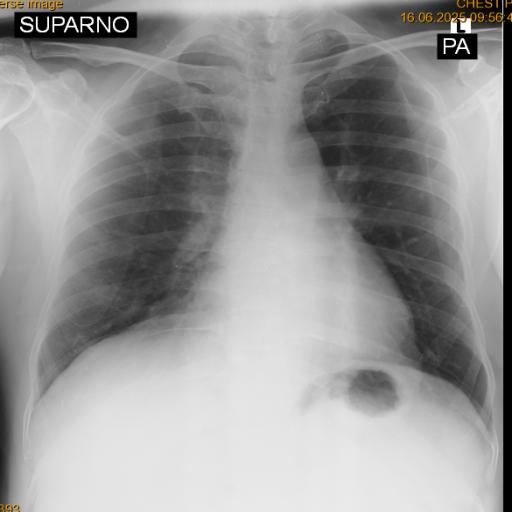kardiomegali: (25, 14, 499, 436)
